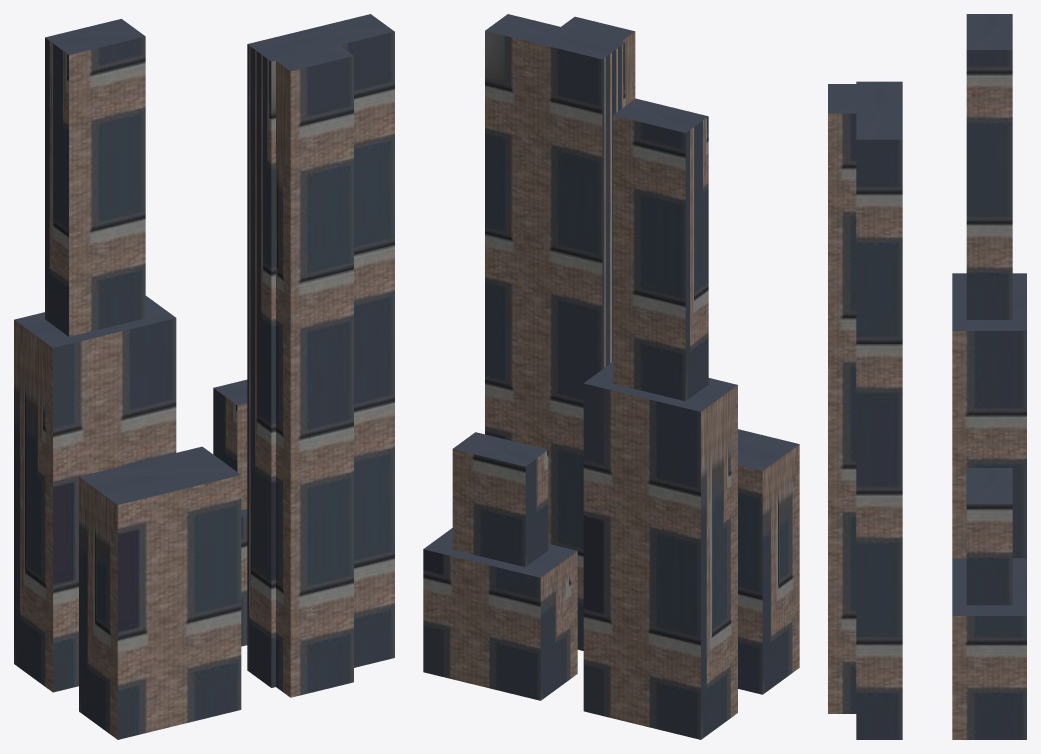
The model's file is block_28.obj.
The picture shows the model from 3 angles, left to right: view 1: azimuth 30°, elevation 25°; view 2: azimuth 150°, elevation 25°; view 3: azimuth 270°, elevation 25°; orthographic projection. The views are drawn at different scales.
Visible parts, largest first — view 1: b3, b0, b1, b2; view 2: b0, b3, b2, b1; view 3: b3, b0, b2.
Part boxes in pixels (x1,y1,x2,y2): b3: (247,14,394,697); b0: (14,19,176,692); b1: (79,446,241,739); b2: (213,379,247,646); b0: (583,98,737,739); b3: (485,14,635,650); b2: (423,432,577,700); b1: (738,429,799,694); b3: (828,81,902,739); b0: (952,14,1026,558); b2: (952,468,1026,739).
Bounding box in the file's own units: 3.9 × 8 × 2.4.
